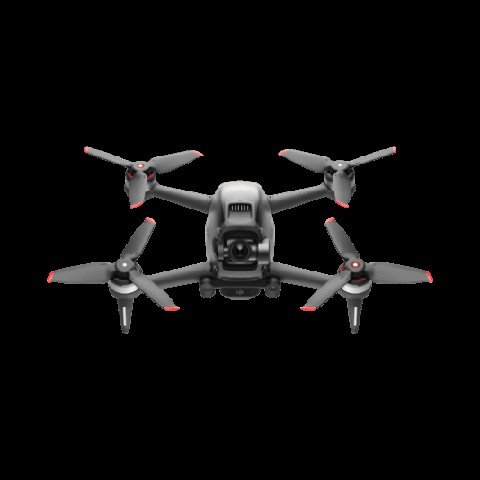maybay_khongnguoilai: (61, 135, 443, 329)
